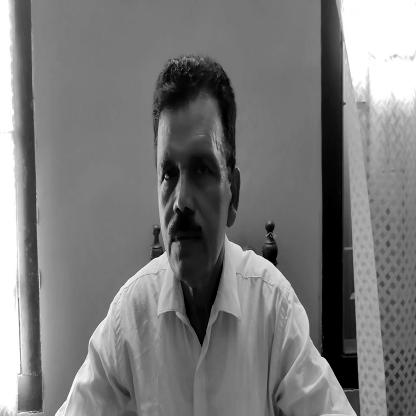Normal: (150, 64, 238, 270)
